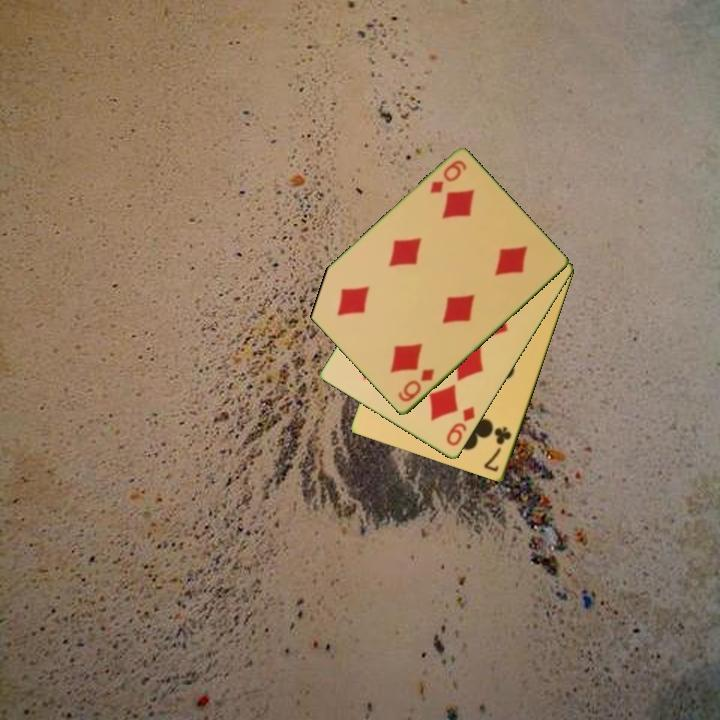6d: (426, 157, 470, 197), (394, 365, 437, 405)
7c: (480, 423, 514, 475)
9d: (443, 403, 478, 450)
